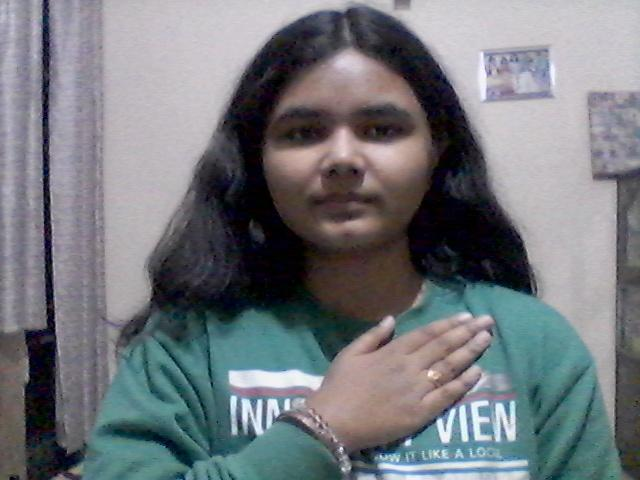please: (296, 302, 499, 452)
